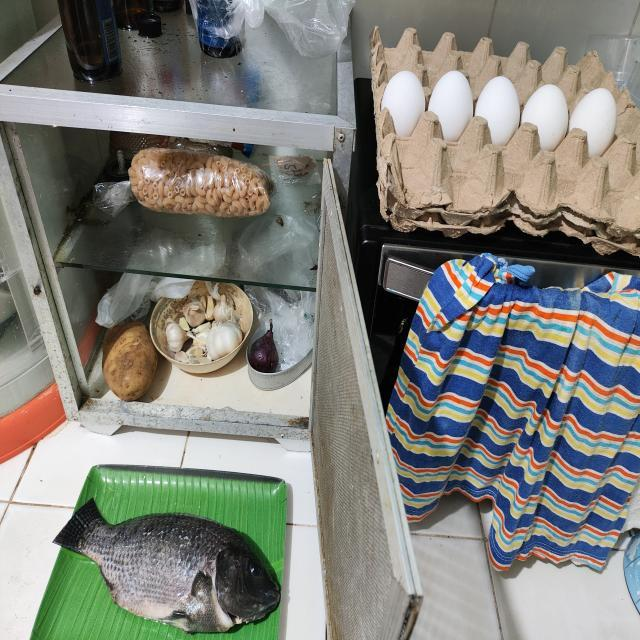egg: (572, 86, 622, 159), (521, 78, 570, 151), (476, 74, 521, 146), (381, 69, 427, 138), (429, 70, 473, 141)
fish: (53, 498, 280, 633)
garlic: (161, 295, 245, 358)
onion: (247, 328, 280, 374)
potato: (103, 321, 157, 400)
